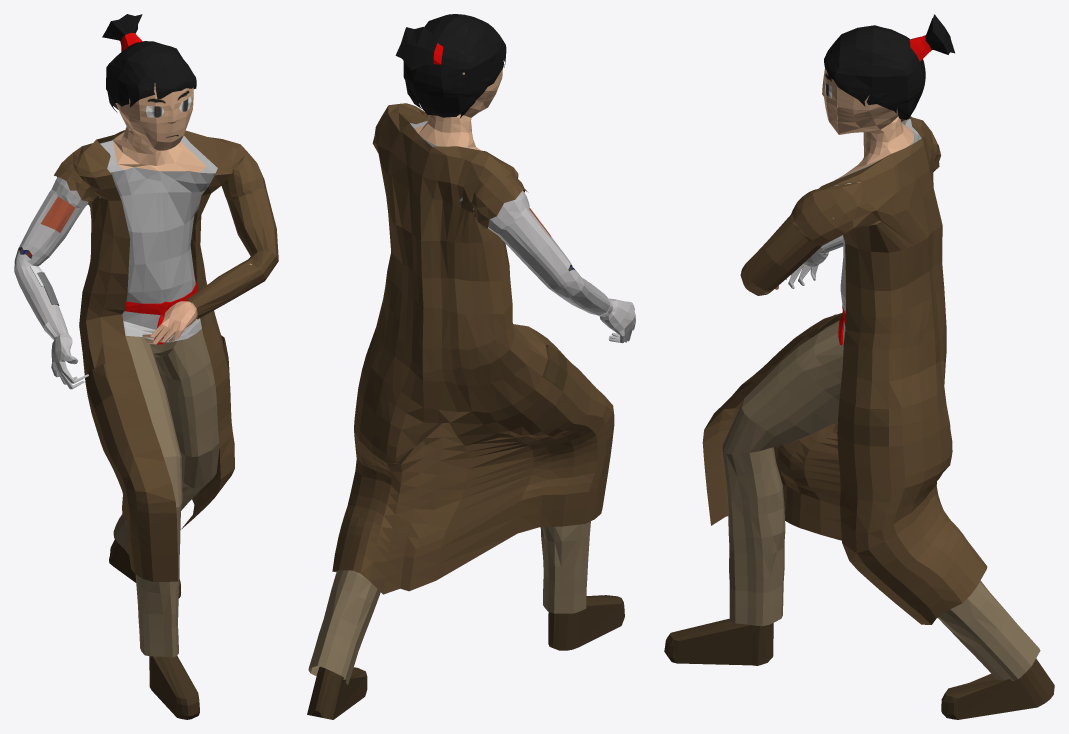
The model's file is One_Bash_000003.obj.
3 views of the same model, side by side, from view 1: azimuth 30°, elevation 25°; view 2: azimuth 150°, elevation 25°; view 3: azimuth 270°, elevation 25° (orthographic). The views are drawn at different scales.
Parts seen in each view (by area): view 1: Hair_Cube.004; view 2: Hair_Cube.004; view 3: Hair_Cube.004.
Boxes of the visible parts, <box> form: Hair_Cube.004: <box>14,14,278,719</box>; Hair_Cube.004: <box>307,14,635,719</box>; Hair_Cube.004: <box>664,14,1054,719</box>.
Bounding box in the file's own units: 1.38 × 3.7 × 1.95.
